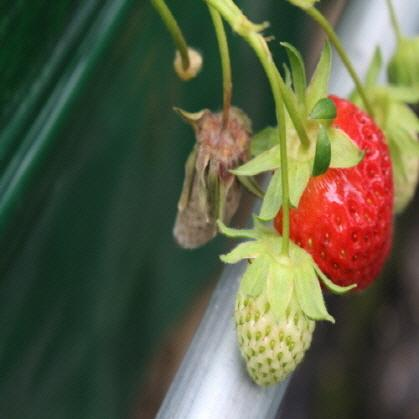Gray Mold: (171, 97, 266, 250)
